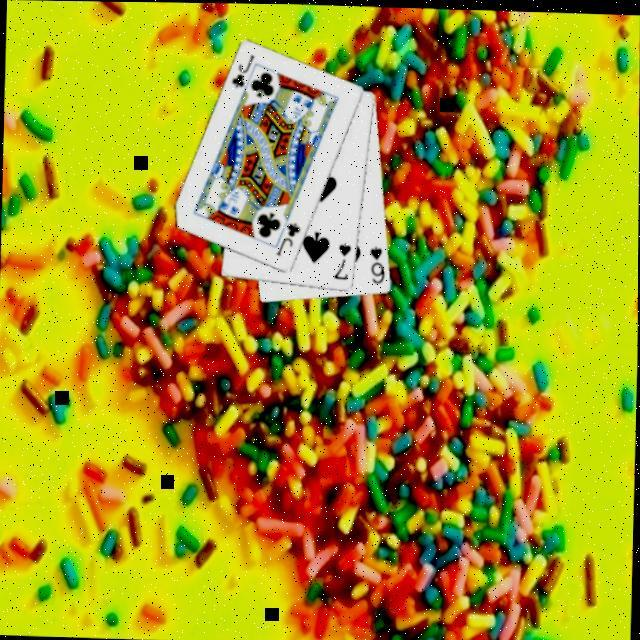6S: (366, 242, 389, 284)
7S: (332, 237, 354, 281)
JC: (228, 49, 259, 90), (274, 218, 304, 258)
